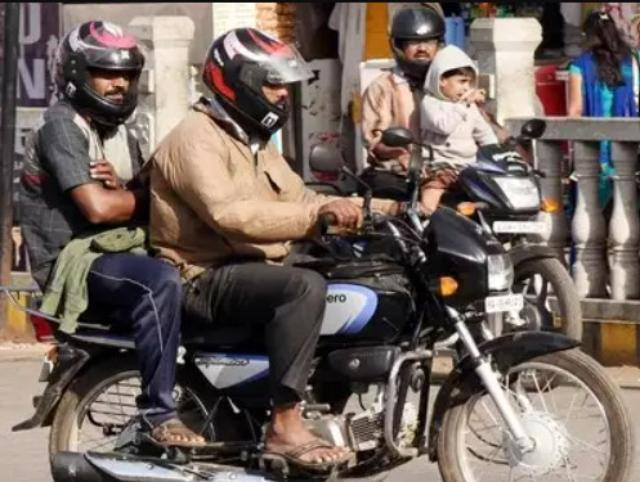licensePlate: (484, 290, 528, 314)
motorcycle: (18, 5, 635, 482)
withHelmet: (208, 26, 318, 141), (51, 12, 142, 117)
